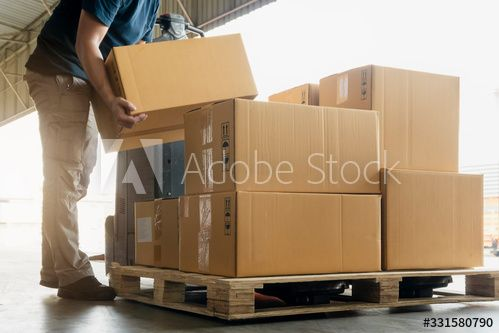box: (183, 98, 383, 191), (237, 193, 383, 273), (383, 167, 488, 265), (114, 43, 261, 102), (379, 67, 460, 166), (176, 198, 236, 277), (129, 200, 175, 274)
pallet: (114, 264, 499, 316)
